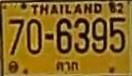0: (26, 18, 41, 53)
3: (74, 17, 88, 52)
5: (109, 16, 125, 52)
6: (56, 18, 71, 52)
7: (8, 18, 23, 54)
9: (91, 17, 106, 52)
TAK: (54, 60, 80, 73)
